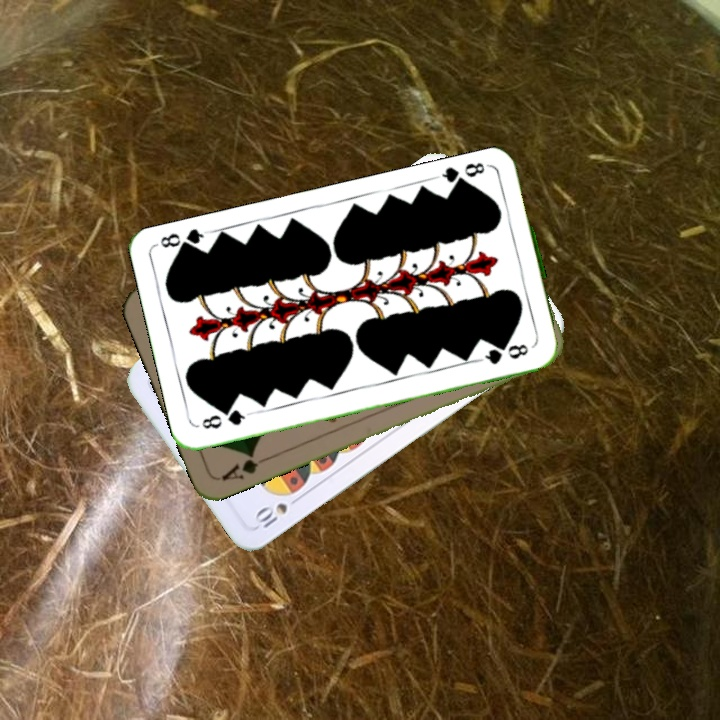G8: (435, 158, 493, 191), (197, 405, 254, 432)
GA: (217, 448, 273, 484)
S10: (250, 491, 304, 532)
